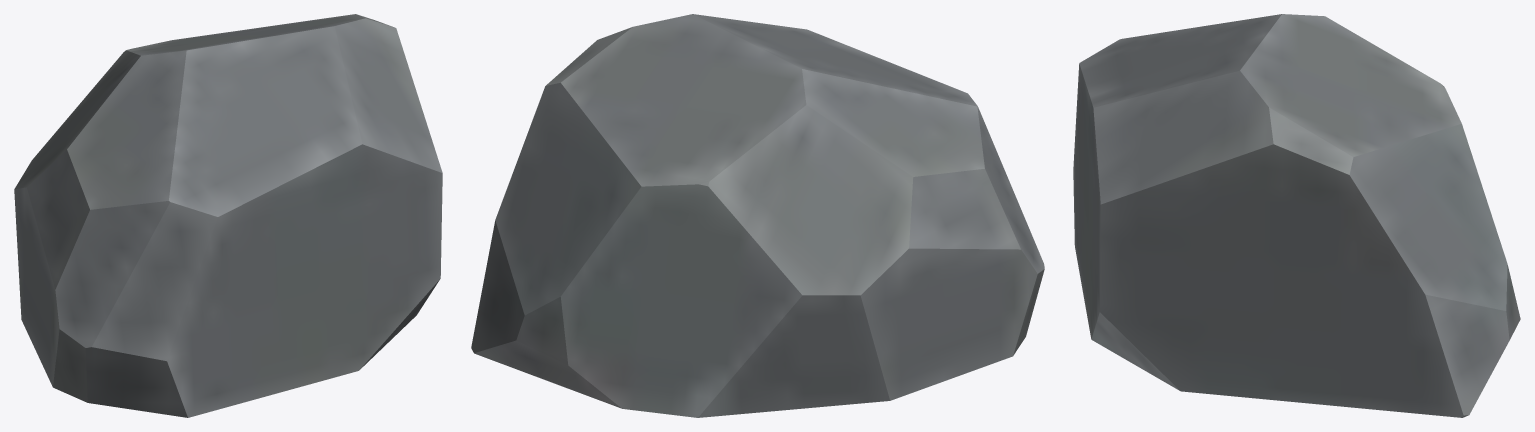
File: rock-6.glb
3 views of the same model, side by side, from view 1: azimuth 30°, elevation 25°; view 2: azimuth 150°, elevation 25°; view 3: azimuth 270°, elevation 25° (orthographic). The views are drawn at different scales.
Visible parts, largest first — view 1: model; view 2: model; view 3: model.
Boxes of the visible parts, <box> form: model: <box>14,14,442,417</box>; model: <box>471,14,1044,417</box>; model: <box>1073,14,1520,417</box>.
Size of the model in its own units: 0.2857 by 0.1839 by 0.254.
Materials: 1 (1 with a texture image).
